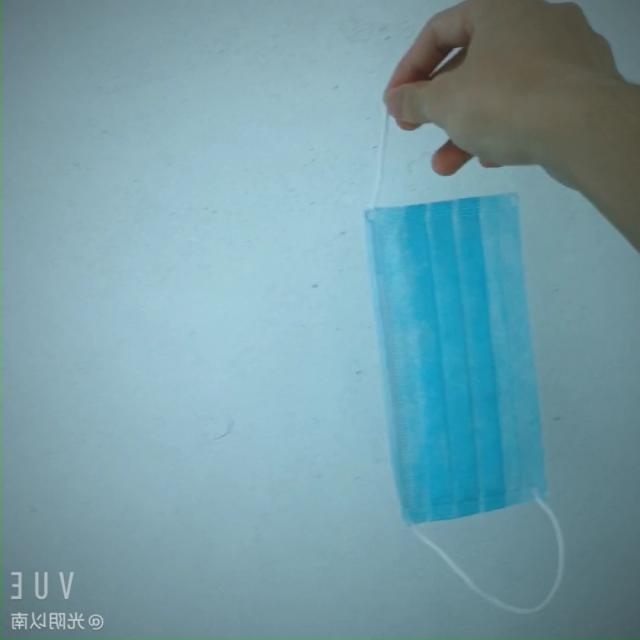face mask: (362, 190, 554, 544)
